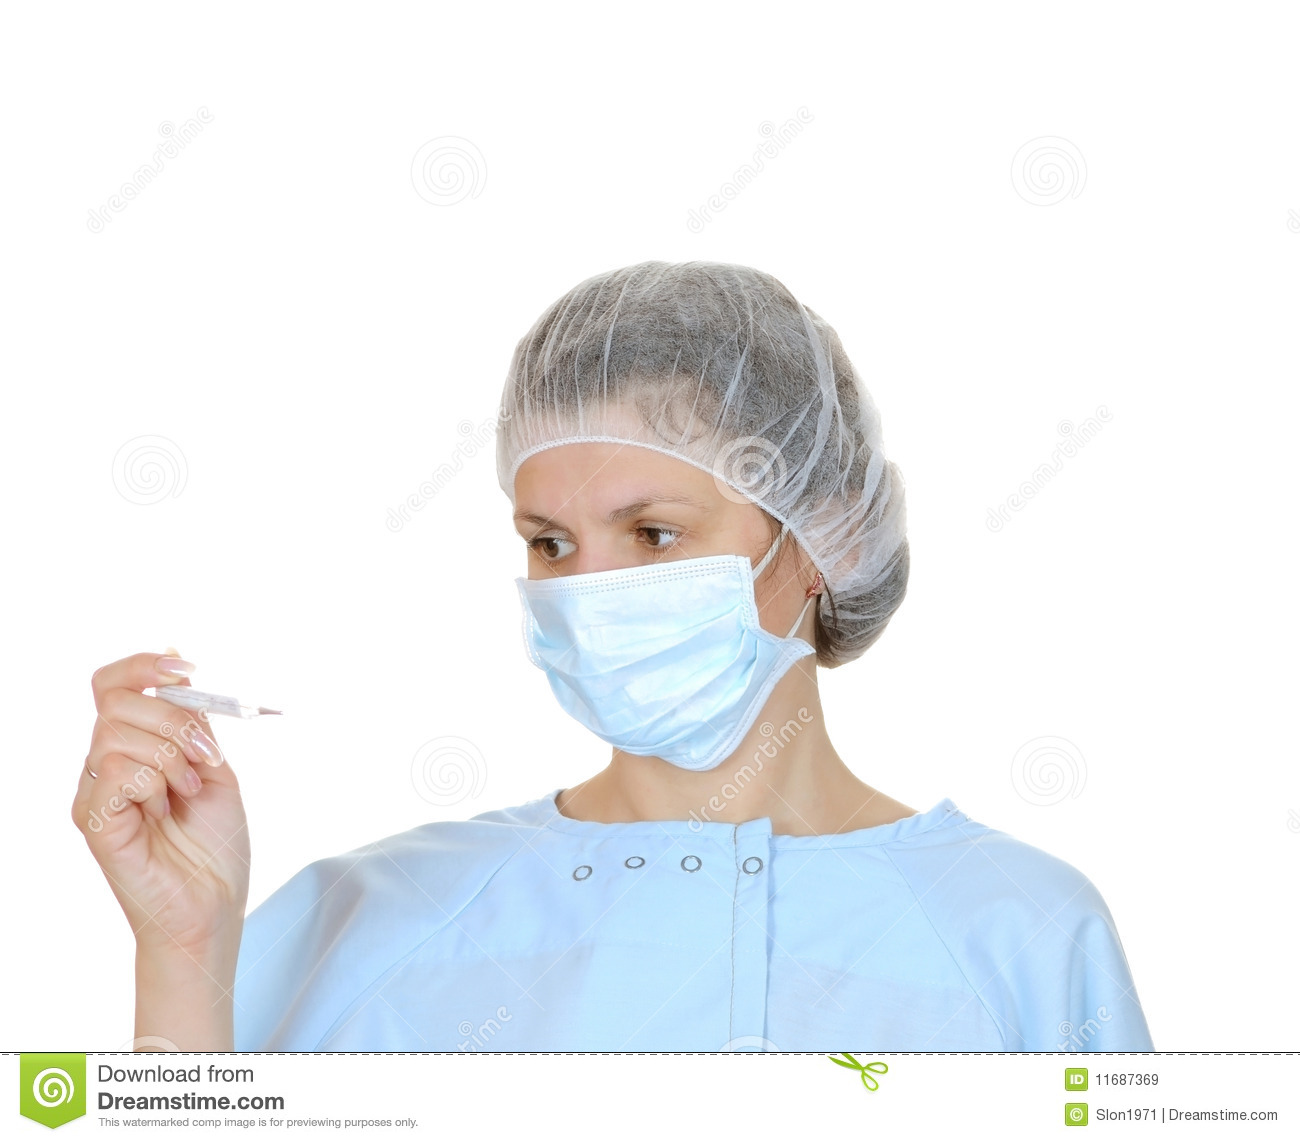mask: (518, 557, 803, 778)
